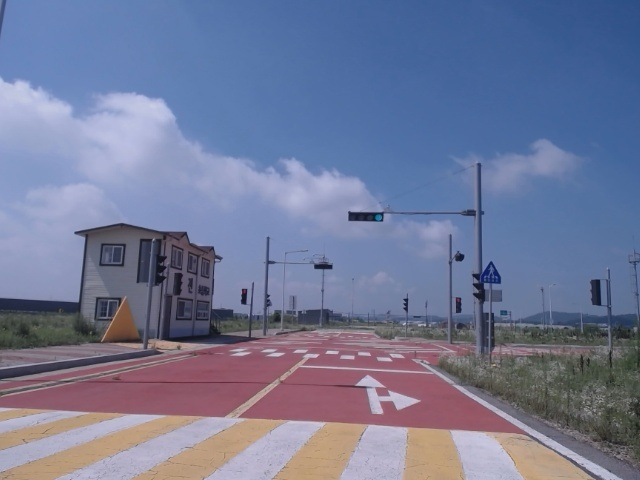straight_green_4: (348, 213, 383, 222)
